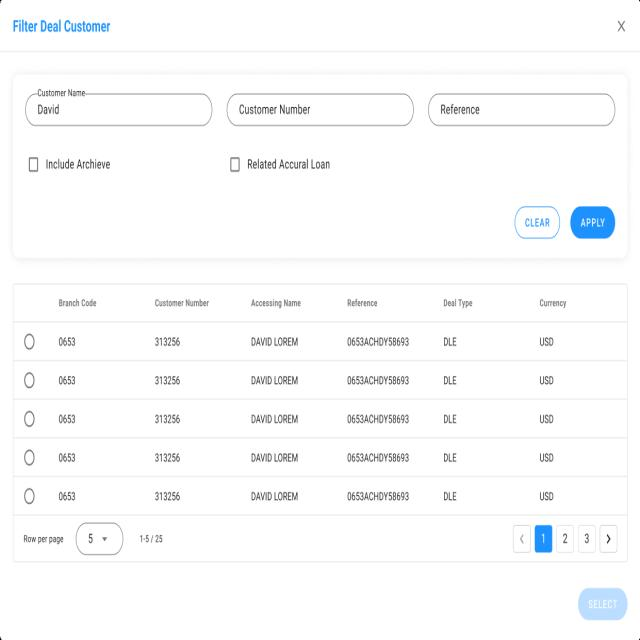QLabel: (11, 13, 116, 39), (584, 594, 621, 612), (521, 215, 554, 231), (580, 211, 606, 231)
VAppBar: (0, 0, 640, 53)
VBtn: (577, 586, 629, 621), (569, 205, 616, 239), (514, 205, 560, 239)
VCard: (12, 76, 630, 264)
VCheckbox: (225, 153, 337, 176), (24, 154, 118, 175)
VDataTable: (12, 285, 628, 562)
VIcon: (616, 15, 628, 39)
VTextField: (26, 89, 212, 128), (226, 94, 414, 128), (428, 92, 616, 126)
